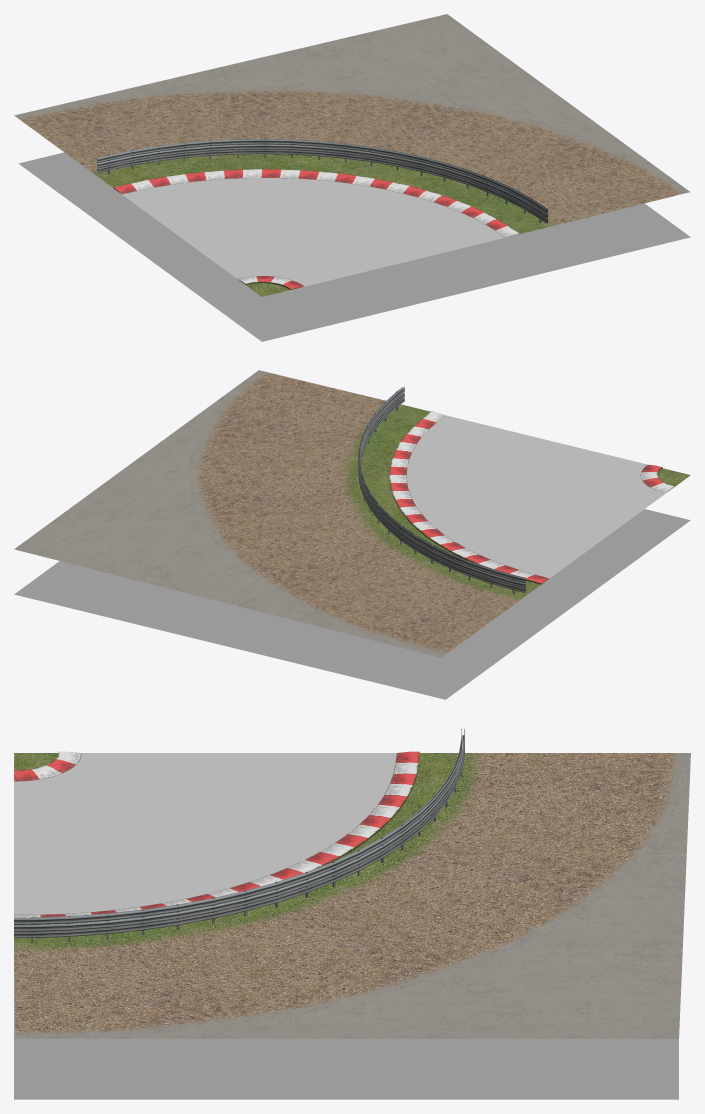
Rendered from Track_Curve_B_Gravel.fbx.
The picture shows the model from 3 angles, top to bottom: view 1: azimuth 30°, elevation 25°; view 2: azimuth 150°, elevation 25°; view 3: azimuth 270°, elevation 25°; orthographic projection. The views are drawn at different scales.
Parts seen in each view (by area): view 1: Gravel, Snap_Plane_Invisible, Road, Concrete, Rail, Grass, Curb_A, Curb_B; view 2: Gravel, Snap_Plane_Invisible, Road, Concrete, Grass, Rail, Curb_A, Curb_B; view 3: Gravel, Road, Snap_Plane_Invisible, Concrete, Rail, Grass, Curb_A, Curb_B.
Part boxes in pixels (x1=…): Gravel: x1=14, y1=86, x2=689, y2=227; Snap_Plane_Invisible: x1=18, y1=152, x2=690, y2=341; Road: x1=122, y1=178, x2=504, y2=286; Concrete: x1=21, y1=14, x2=681, y2=185; Rail: x1=97, y1=138, x2=547, y2=223; Grass: x1=97, y1=157, x2=547, y2=296; Curb_A: x1=113, y1=169, x2=519, y2=237; Curb_B: x1=238, y1=276, x2=304, y2=289; Gravel: x1=188, y1=370, x2=524, y2=657; Snap_Plane_Invisible: x1=14, y1=509, x2=690, y2=699; Road: x1=407, y1=415, x2=665, y2=578; Concrete: x1=14, y1=377, x2=434, y2=656; Grass: x1=356, y1=405, x2=690, y2=596; Rail: x1=358, y1=387, x2=525, y2=593; Curb_A: x1=389, y1=411, x2=549, y2=584; Curb_B: x1=640, y1=464, x2=674, y2=493; Gravel: x1=14, y1=753, x2=690, y2=1038; Road: x1=14, y1=753, x2=396, y2=914; Snap_Plane_Invisible: x1=14, y1=954, x2=678, y2=1099; Concrete: x1=47, y1=754, x2=690, y2=1038; Rail: x1=14, y1=729, x2=464, y2=943; Grass: x1=14, y1=753, x2=459, y2=942; Curb_A: x1=14, y1=751, x2=419, y2=917; Curb_B: x1=14, y1=751, x2=81, y2=781.
Bounding box in the file's own units: 30.01 × 4.24 × 30.07.
